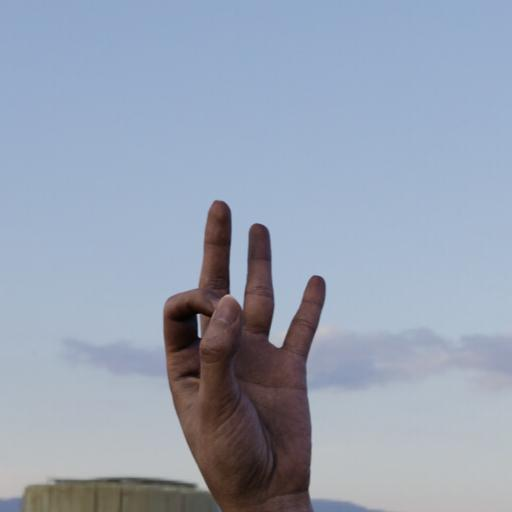F: (109, 147, 349, 512)
